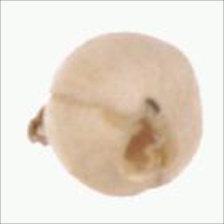L3: (120, 112, 178, 174)
L4: (27, 32, 203, 197)
